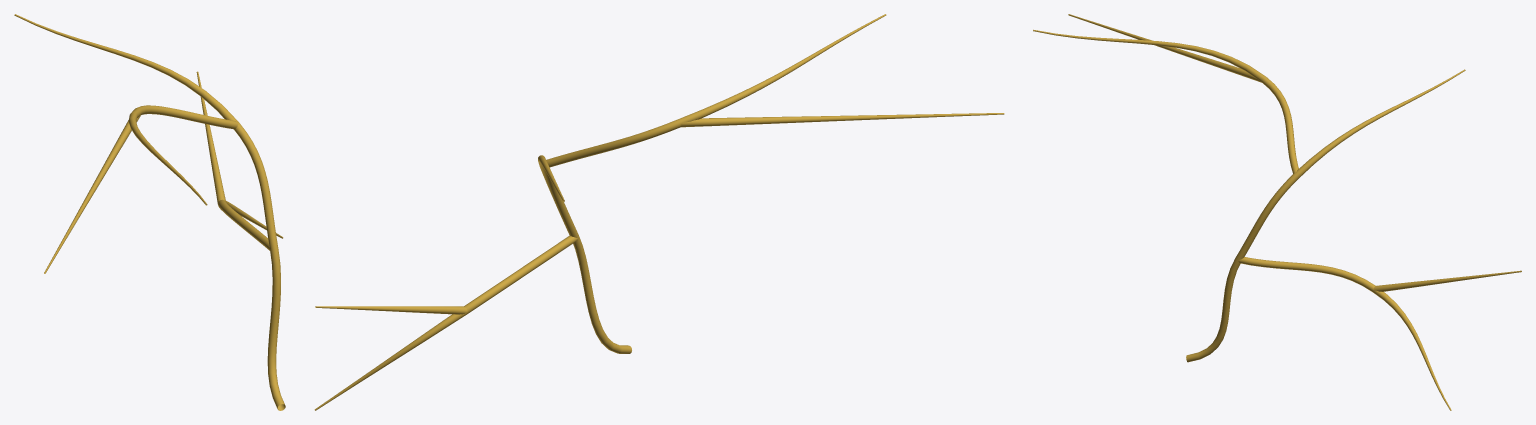
3 views of the same model, side by side, from view 1: azimuth 30°, elevation 25°; view 2: azimuth 150°, elevation 25°; view 3: azimuth 270°, elevation 25° (orthographic). The views are drawn at different scales.
Parts seen in each view (by area): view 1: 左侧桡神经肌支; view 2: 左侧桡神经肌支; view 3: 左侧桡神经肌支.
Boxes of the visible parts, bbox=[...] form: 左侧桡神经肌支: bbox=[14, 14, 285, 410]; 左侧桡神经肌支: bbox=[314, 14, 1004, 410]; 左侧桡神经肌支: bbox=[1033, 14, 1521, 410].
Size of the model in its own units: 0.0913 by 0.0589 by 0.0989.
